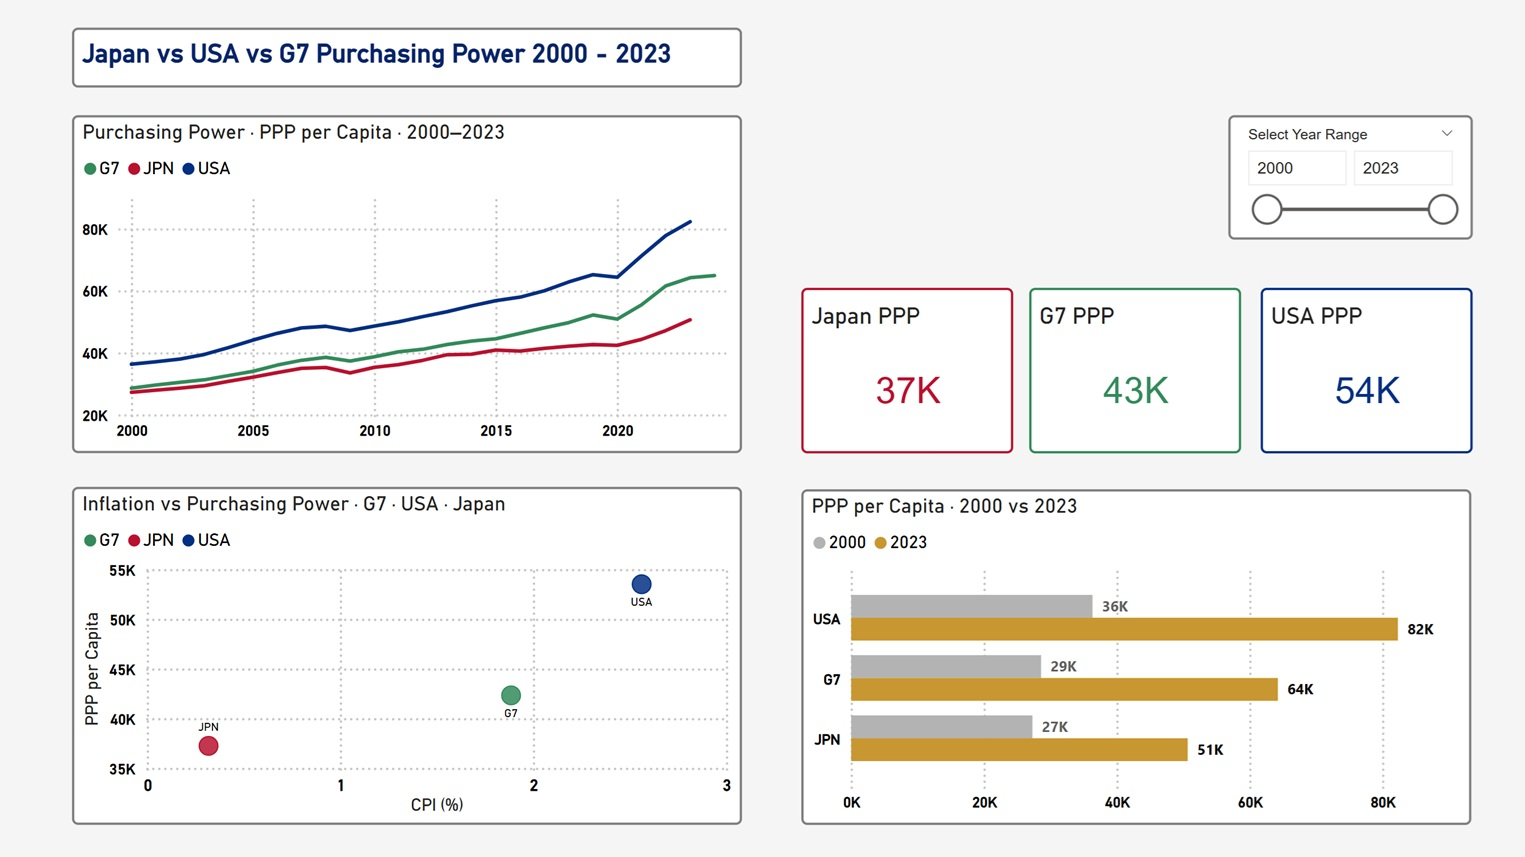

The dashboard page shown, as its layout file describes it:
{"tool":"powerbi","page":{"name":"Page 1","canvas":[1280,720],"ordinal":0},"visuals":[{"type":"lineChart","title":"Purchasing Power · PPP per Capita · 2000–2023","fields":{"Category":["gold_g7.year"],"Y":["Avg(gold_g7.ppp)"],"Series":["gold_g7.country"]},"box":[61.3,96.7,559.1,282.4],"z":0},{"type":"clusteredBarChart","title":"PPP per Capita · 2000 vs 2023","fields":{"Category":["gold_g7.country"],"Y":["Sum(gold_g7.ppp)"],"Series":["gold_g7.year"]},"box":[669.2,408.8,559.1,280.5],"z":1000},{"type":"slicer","fields":{"Values":["gold_g7.year"]},"box":[1025.1,97,204,104.5],"z":2000},{"type":"scatterChart","title":"Inflation vs Purchasing Power · G7 · USA · Japan","fields":{"X":["Avg(gold_g7.cpi)"],"Y":["Avg(gold_g7.ppp)"],"Series":["gold_g7.country"]},"box":[61.3,406.9,559.1,282.4],"z":3000},{"type":"card","title":"Japan PPP","fields":{"Values":["Avg(gold_g7.ppp)"]},"box":[668.7,240.5,177.6,138.5],"z":4000},{"type":"card","title":"USA PPP","fields":{"Values":["Avg(gold_g7.ppp)"]},"box":[1051.6,240.5,177.6,138.5],"z":5000},{"type":"card","title":"G7 PPP","fields":{"Values":["Avg(gold_g7.ppp)"]},"box":[858.9,240.5,177.6,138.5],"z":6000},{"type":"textbox","box":[61.3,23.9,559.1,49.8],"z":7000}]}

Visuals, with their boxes in screenshot pixels (x1, y1, x2, y2), scaled from the page's 1280x720 canvas onto the 1525x857 screenshot:
"Purchasing Power · PPP per Capita · 2000–2023" lineChart: pyautogui.locateOnScreen(73, 115, 739, 451)
"PPP per Capita · 2000 vs 2023" clusteredBarChart: pyautogui.locateOnScreen(797, 487, 1463, 820)
slicer - gold_g7.year: pyautogui.locateOnScreen(1221, 115, 1464, 240)
"Inflation vs Purchasing Power · G7 · USA · Japan" scatterChart: pyautogui.locateOnScreen(73, 484, 739, 820)
"Japan PPP" card: pyautogui.locateOnScreen(797, 286, 1008, 451)
"USA PPP" card: pyautogui.locateOnScreen(1253, 286, 1464, 451)
"G7 PPP" card: pyautogui.locateOnScreen(1023, 286, 1235, 451)
textbox: pyautogui.locateOnScreen(73, 28, 739, 88)
